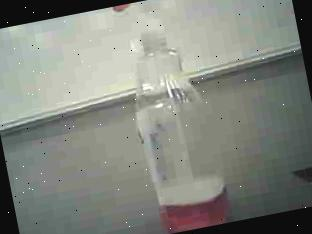hazard: (107, 0, 238, 234)
